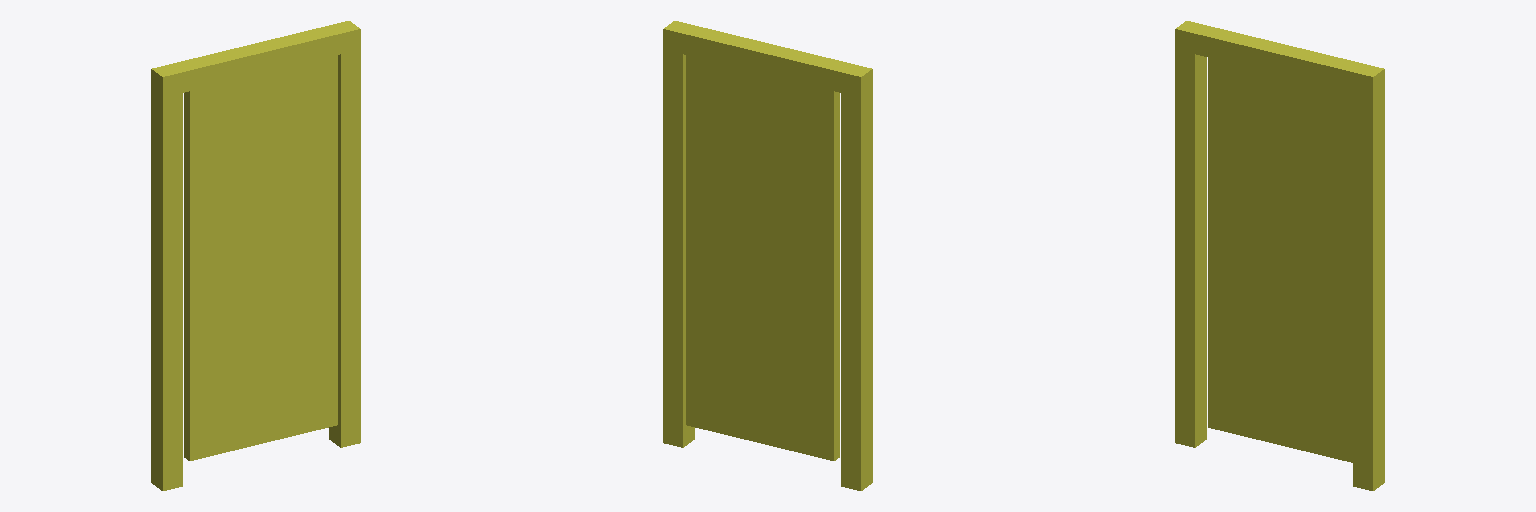
URDF robot description (urdf_door):
<?xml version="1.0" ?>
<robot name="urdf_door">
 <link name="world"/>
  <joint name="fixed" type="fixed">
    <parent link="world"/>
    <child link="baseLink"/>
    <origin xyz="0 0 0"/>
  </joint>

  <link name="baseLink">
    <inertial>
      <origin rpy="0 0 0" xyz="0 0 0.5"/>
       <mass value="1.0"/>
       <inertia ixx="0.1" ixy="0" ixz="0" iyy="0.1" iyz="0" izz="0.1"/>
    </inertial>
    <visual>
      <origin rpy="0 0 0" xyz="0.05 0 1"/>
      <geometry>
      <box size="0.1 0.1 2"/>
      </geometry>
	   <material name="framemat0">
      <color rgba="0.8 0.8 0.3 1" />
      </material>
    </visual>
    <visual>
      <origin rpy="0 0 0" xyz="0.95 0 1"/>
      <geometry>
        <box size="0.1 0.1 2"/>
      </geometry>
	  <material name="framemat0"/>
    </visual>
    <visual>
      <origin rpy="0 0 0" xyz="0.5 0 1.95"/>
      <geometry>
        <box size="1 0.1 0.1"/>
      </geometry>
	  <material name="framemat0"/>
	  </visual>

    <collision>
      <origin rpy="0 0 0" xyz="0.05 0 1"/>
      <geometry>
        <box size="0.1 0.1 2"/>
      </geometry>
    </collision>
    <collision>
      <origin rpy="0 0 0" xyz="0.95 0 1"/>
      <geometry>
        <box size="0.1 0.1 2"/>
      </geometry>
    </collision>
    <collision>
      <origin rpy="0 0 0" xyz="0.5 0 1.95"/>
      <geometry>
        <box size="1 0.1 0.1"/>
      </geometry>
    </collision>

  </link>
   <link name="childA">
    <inertial>
      <origin rpy="0 0 0" xyz="0.4 0 0.4"/>
      <mass value="1.0"/>
      <inertia ixx="0.0444" ixy="0" ixz="0" iyy="0.0444" iyz="0" izz="0.0444"/>
    </inertial>
    <visual>
      <origin rpy="0 0 0" xyz="0.5 0 0.9"/>
      <geometry>
        <box size="0.8  0.05 1.8"/>
      </geometry>
	   <material name="doormat0">
      <color rgba="0.8 0.8 0.3 1" />
      </material>

	  </visual>
     <collision>
       <origin rpy="0 0 0" xyz="0.45 0 0.9"/>
       <geometry>
         <box size="0.75  0.05 1.6"/>
       </geometry>
     </collision>

   </link>
   <joint name="joint_baseLink_childA" type="revolute">
    <parent link="baseLink"/>
    <child link="childA"/>
	<dynamics damping="1.0" friction="0.00001"/>
    <origin xyz="0.05 0 0.1"/>
		<axis xyz="0 0 1"/>
  </joint>
</robot>

--- Facts derived from the render (not from the file) ---
3 views of the same robot in one strip: view 1: azimuth 30°, elevation 25°; view 2: azimuth 150°, elevation 25°; view 3: azimuth 330°, elevation 25° (orthographic).
Model urdf_door with 3 links and 2 joints (1 revolute, 1 fixed), rooted at world, posed all joints at 0.
Links seen in each view (by area): view 1: childA, baseLink; view 2: childA, baseLink; view 3: childA, baseLink.
Link boxes in pixels (x1,y1,x2,y2): childA: (184,55,337,460); baseLink: (151,21,360,490); childA: (686,55,839,460); baseLink: (663,21,872,490); childA: (1208,58,1352,462); baseLink: (1175,21,1384,490).
Bounding box of the posed robot: 1 × 0.1 × 2 m (x, y, z).
Geometry: primitives only (box / cylinder / sphere), no mesh files.